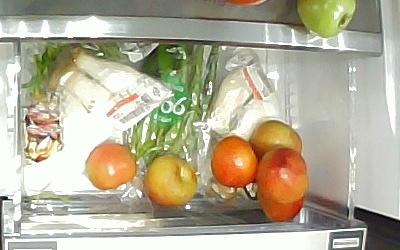prune: (255, 146, 307, 204), (142, 153, 197, 207), (209, 134, 259, 187), (83, 141, 137, 190), (248, 118, 303, 159), (256, 190, 304, 221)
